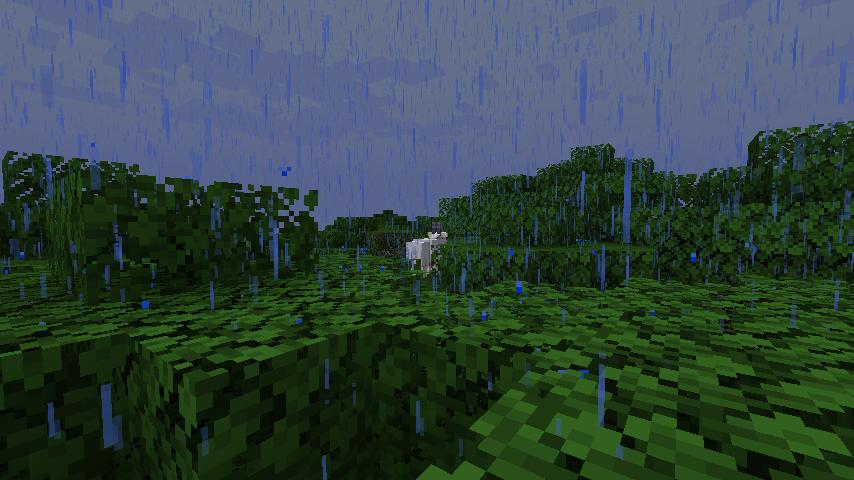goat: (405, 221, 450, 273)
